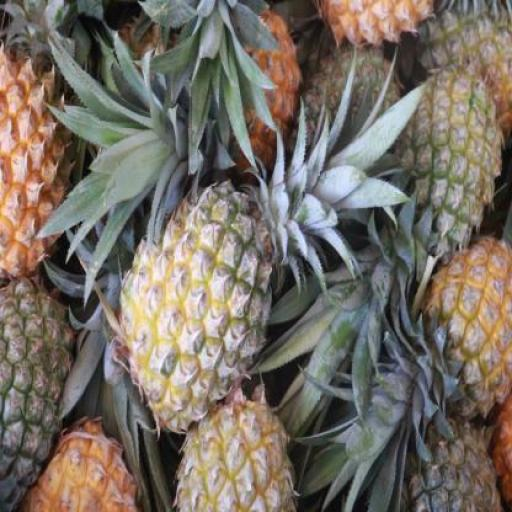------------------------------: (121, 183, 272, 431), (398, 62, 497, 257), (172, 384, 296, 512)
Pineapple - v8 v1: (0, 45, 75, 282), (424, 236, 510, 412)
